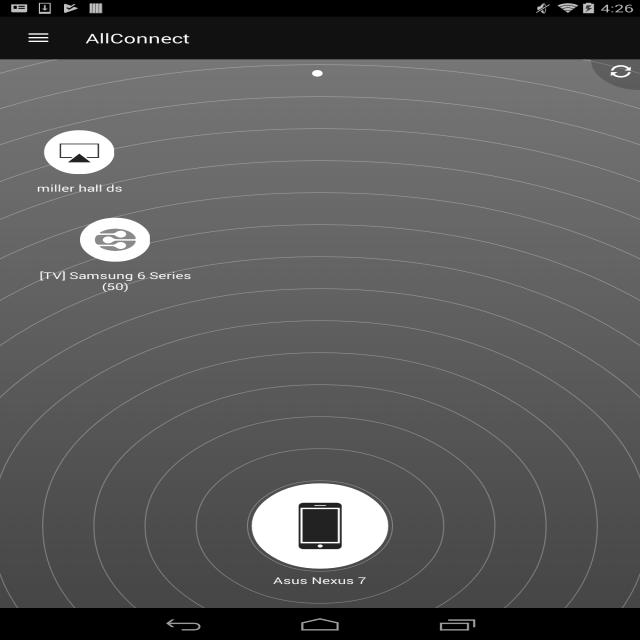ImageButton: (603, 61, 639, 84), (22, 28, 57, 45)
ImageView: (242, 482, 396, 571), (69, 214, 158, 262), (37, 130, 125, 174)
TextView: (35, 268, 198, 294), (82, 30, 194, 48), (266, 574, 373, 592), (33, 182, 136, 195)
